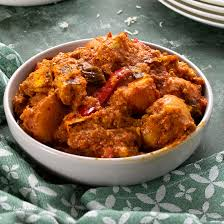rendang: (9, 29, 216, 172)
